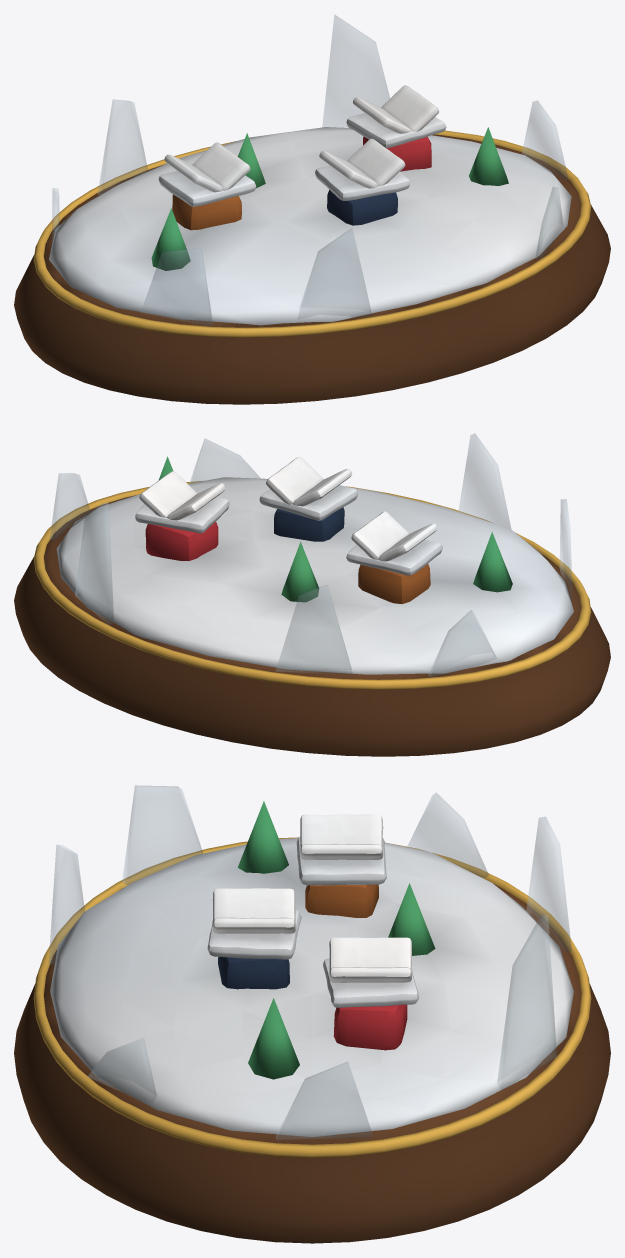
Rendered from frost_globe_village.glb.
The picture shows the model from 3 angles, top to bottom: view 1: azimuth 30°, elevation 25°; view 2: azimuth 150°, elevation 25°; view 3: azimuth 270°, elevation 25°; orthographic projection. The views are drawn at different scales.
Parts seen in each view (by area): view 1: frost_globe_village; view 2: frost_globe_village; view 3: frost_globe_village.
Part boxes in pixels (bbox=[...]): frost_globe_village: bbox=[14, 15, 610, 404]; frost_globe_village: bbox=[14, 433, 610, 756]; frost_globe_village: bbox=[14, 785, 610, 1243].
Bounding box in the file's own units: 9.21 × 3 × 6.91.
